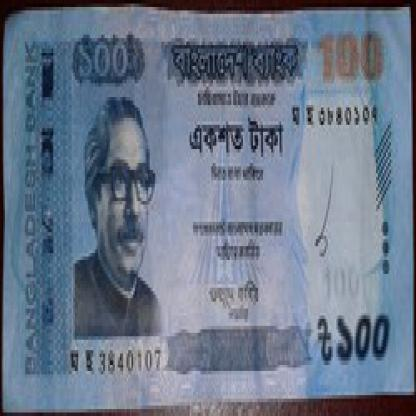one hundred taka: (315, 298, 396, 378), (313, 28, 391, 94), (70, 28, 150, 90)
